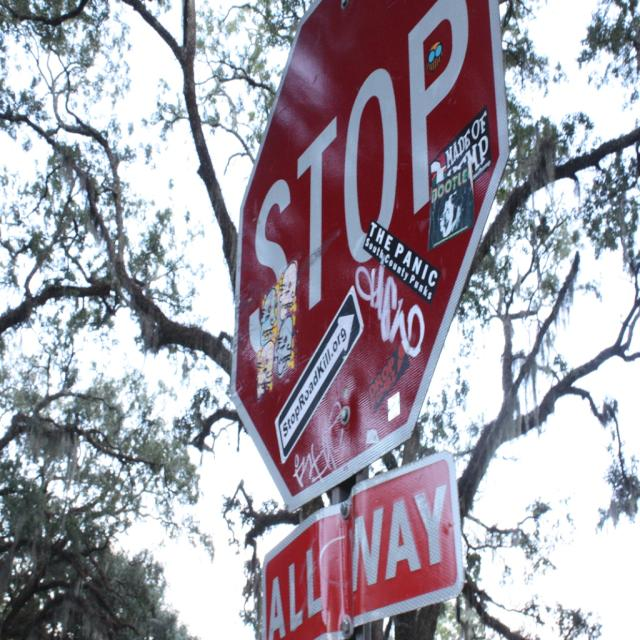Stop-sign: (230, 0, 510, 514)
